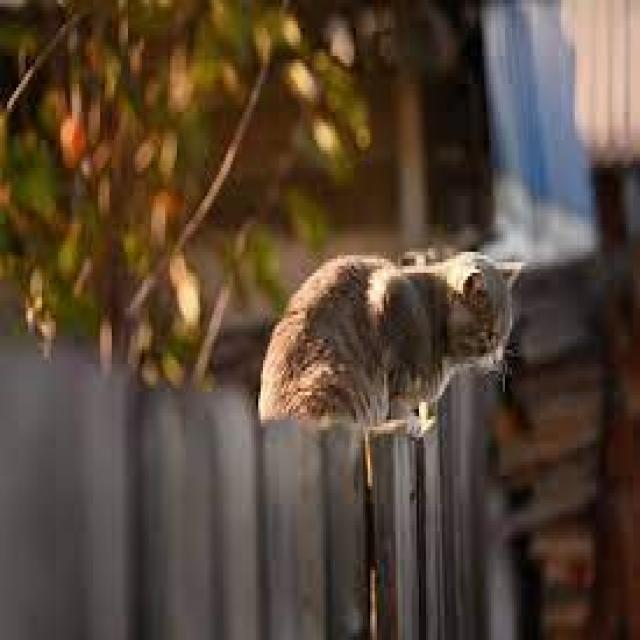Cat: (249, 246, 531, 454)
